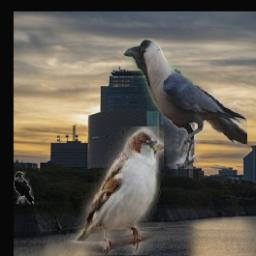Crow: (123, 38, 247, 169), (14, 171, 34, 204)
Sparrow: (65, 126, 165, 255)
